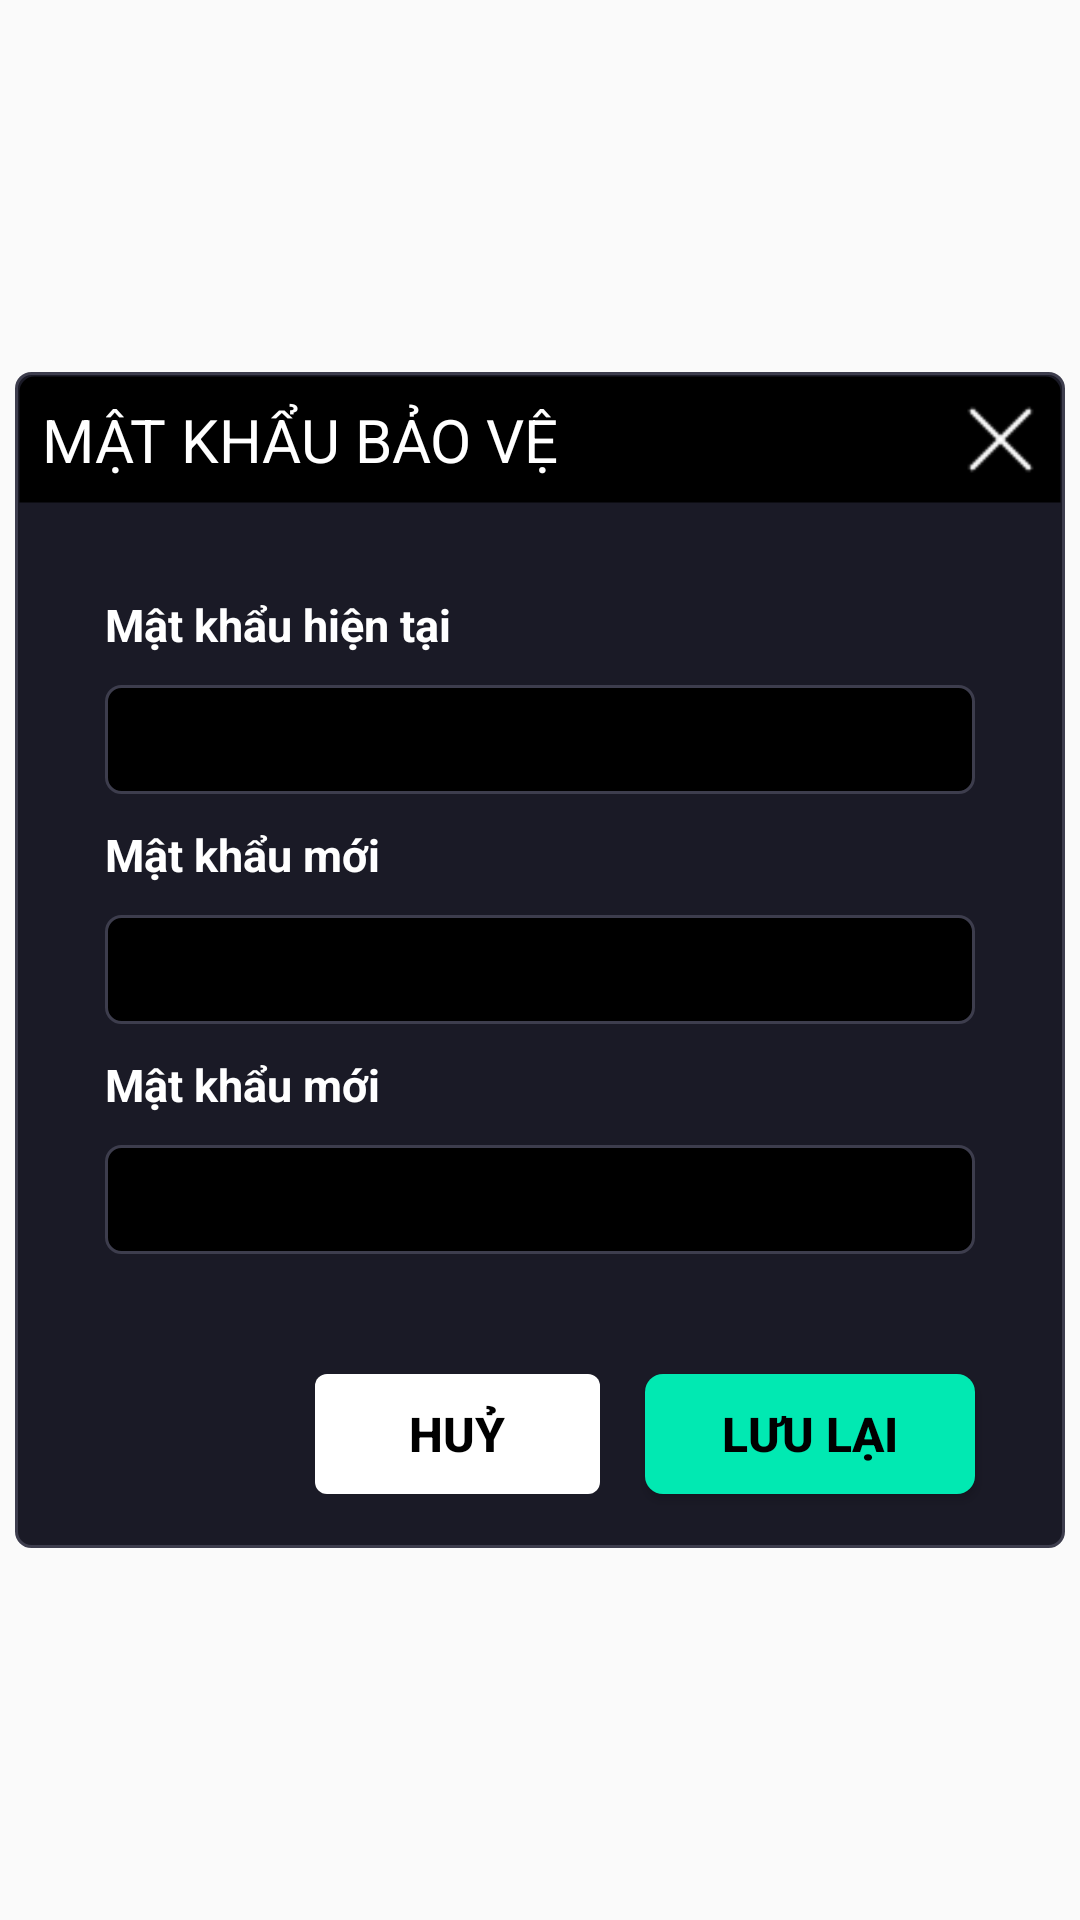

Icons on this 1080x1920 Android screen, each with its box as (x1, y1, x2, y2):
close: (968, 407, 1033, 472)
